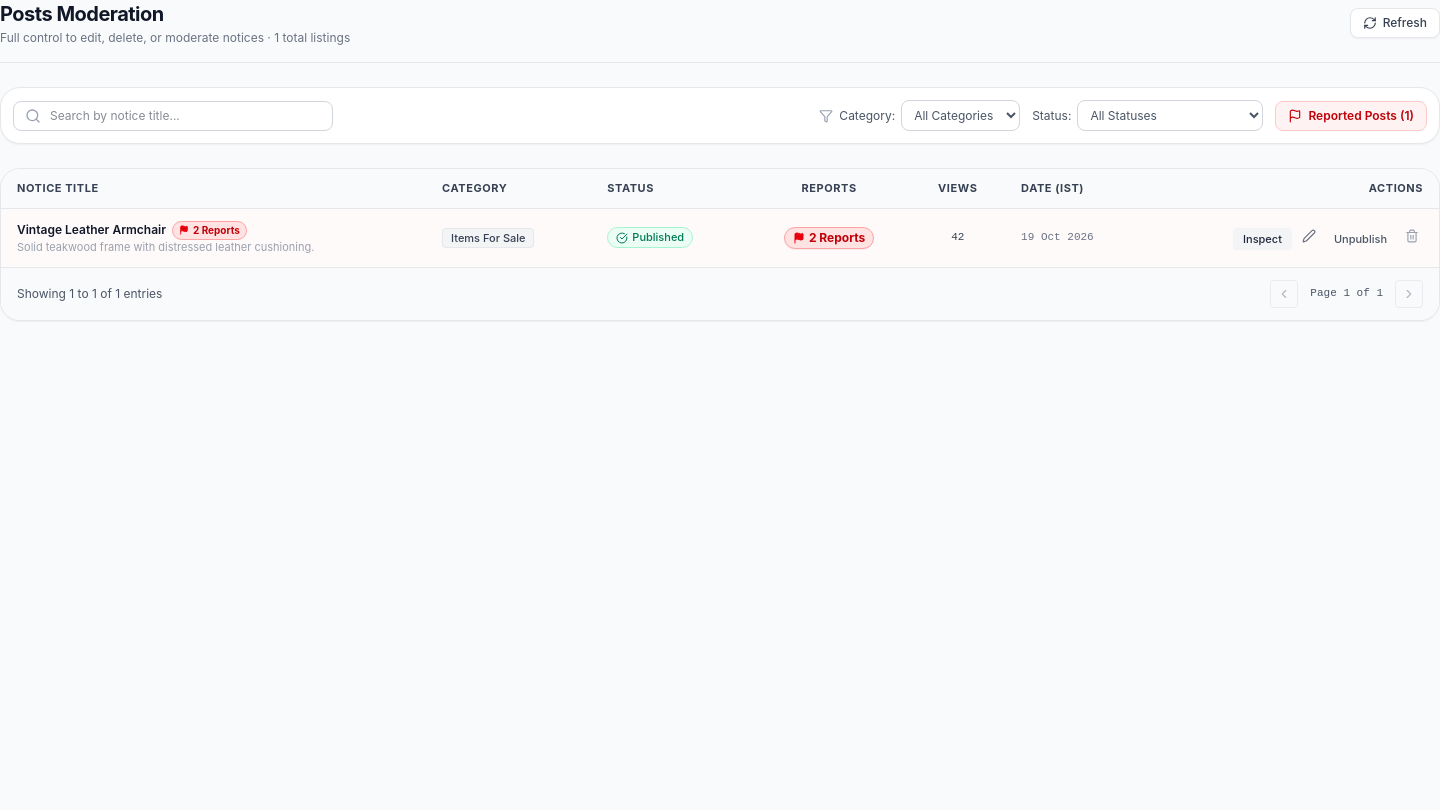
Scenario: AuthorPosts Component › opens inspect drawer with detailed report count and reasons
This screenshot has width=1440, height=810.
expect the text "Vintage Leather Armchair" is shown: met, box [17,222,166,238]
Click the button "Inspect": (1262, 239) [1233,228,1292,250]
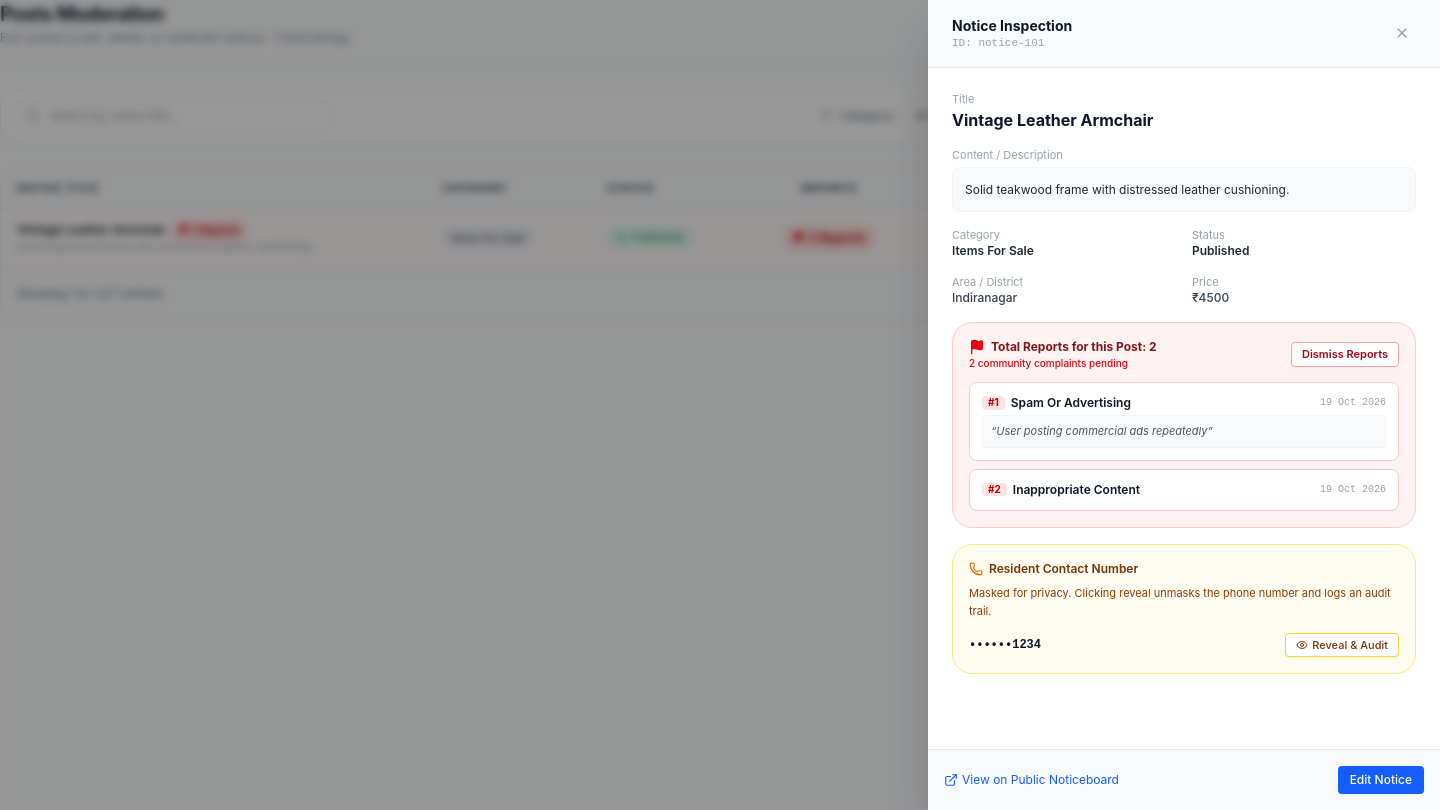
expect the text "Total Reports for this Post: 2" is shown: met, box [991,339,1157,355]
expect the text "#1 Spam or advertising" is shown: met, box [982,395,1131,411]
expect the text "“User posting commercial ads repeatedly”" is shown: met, box [982,415,1386,448]
